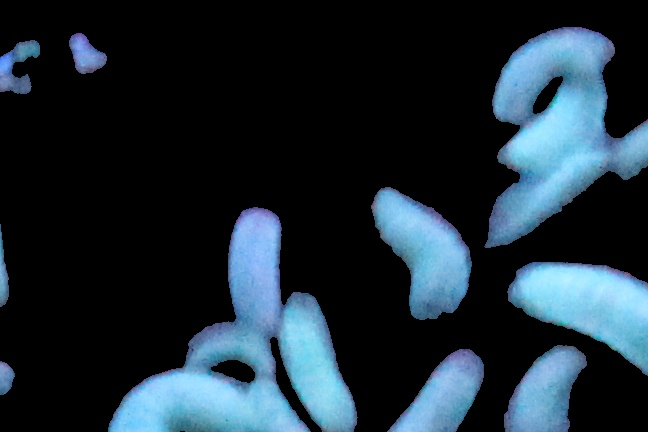larvae: (508, 258, 648, 372), (370, 179, 474, 327), (487, 142, 610, 248), (281, 291, 359, 432), (493, 29, 614, 119), (110, 367, 270, 432), (500, 77, 609, 164), (498, 340, 594, 432), (395, 343, 488, 432), (226, 210, 285, 333), (193, 327, 280, 383)
